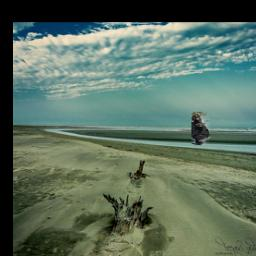Crow: (191, 112, 209, 145)
